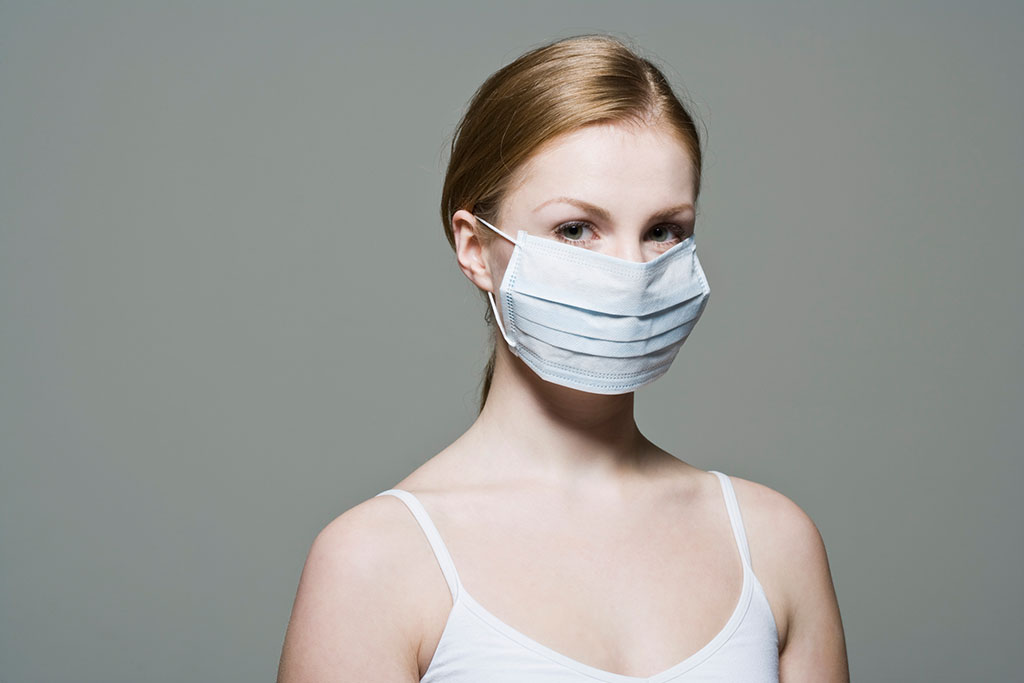face_mask: (490, 116, 705, 380)
